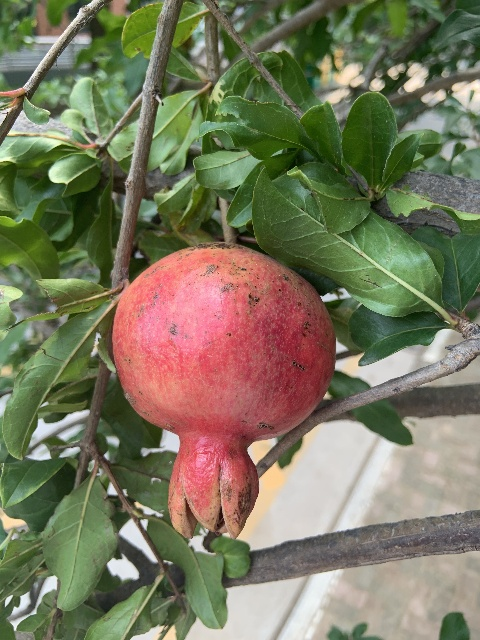ripe: (112, 243, 334, 539)
